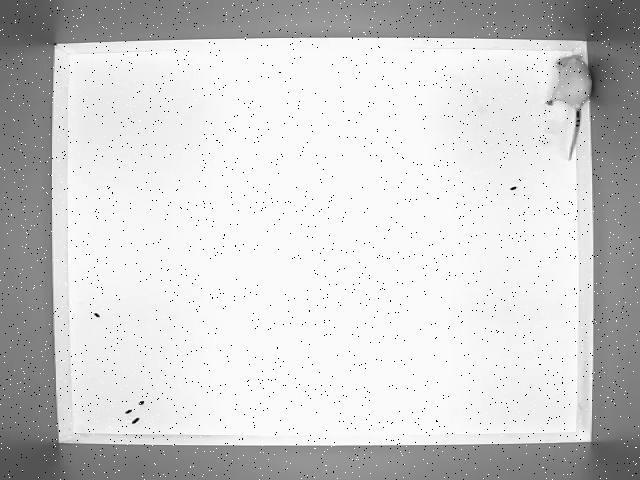Tikus: (544, 50, 594, 162)
